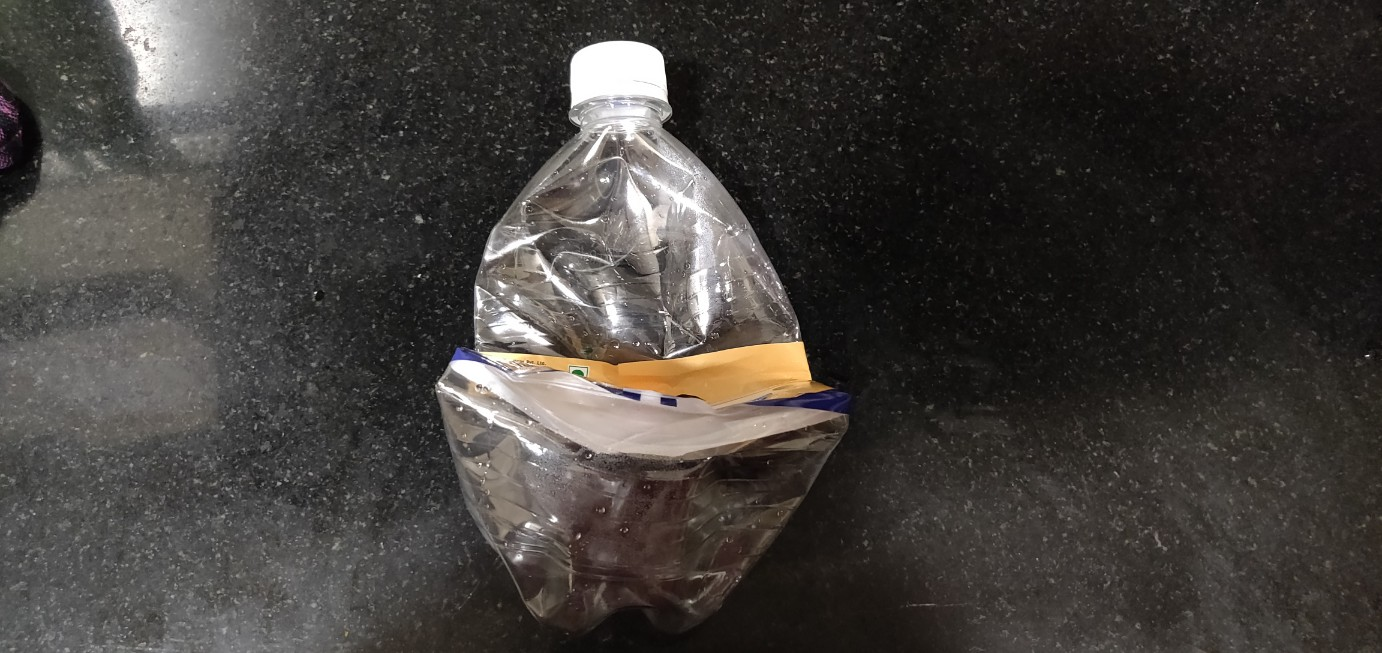Electronics: (413, 16, 860, 645)
